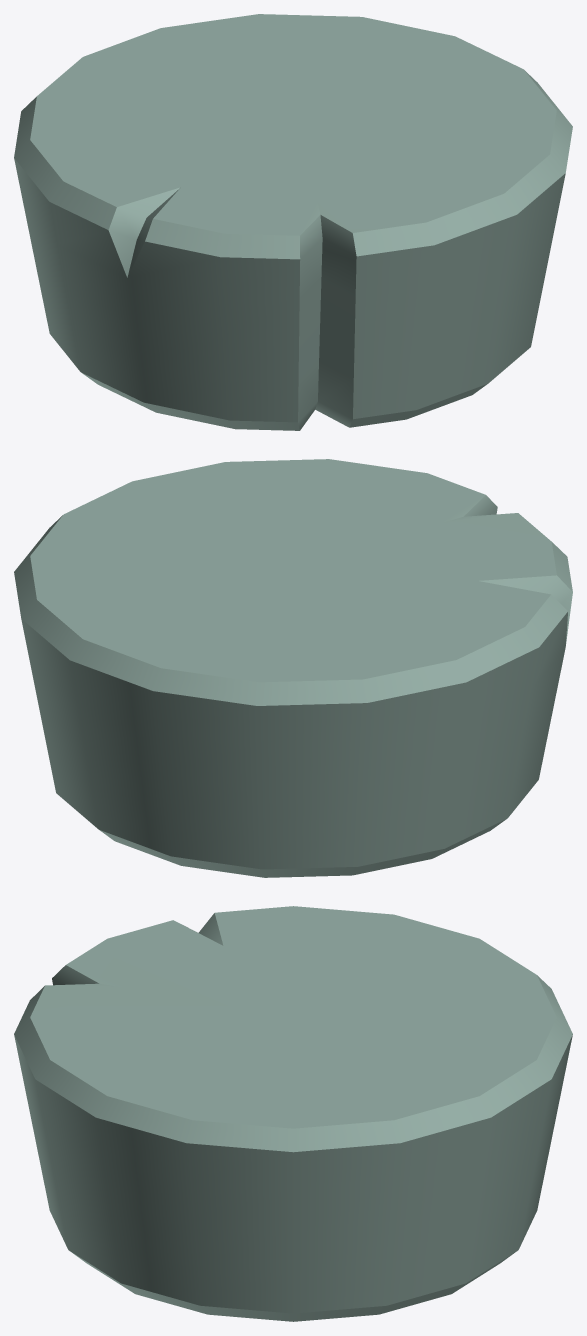
File: Green1.fbx
3 views of the same model, one above another, from view 1: azimuth 30°, elevation 25°; view 2: azimuth 150°, elevation 25°; view 3: azimuth 270°, elevation 25° (orthographic).
Parts seen in each view (by area): view 1: circle; view 2: circle; view 3: circle.
Boxes of the visible parts, left/top/right/bottom form: circle: left=14, top=14, right=572, bottom=430; circle: left=14, top=459, right=572, bottom=877; circle: left=14, top=906, right=572, bottom=1321.
Bounding box in the file's own units: 1.98 × 0.8207 × 1.98.
